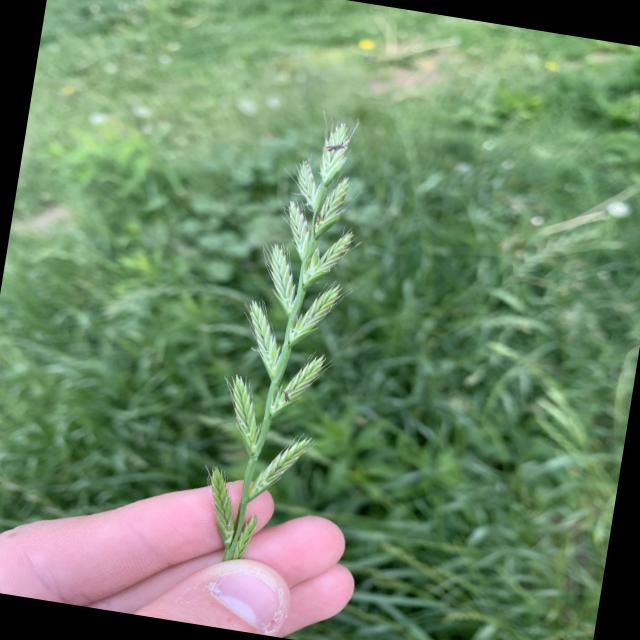Lolium: (192, 101, 382, 576)
